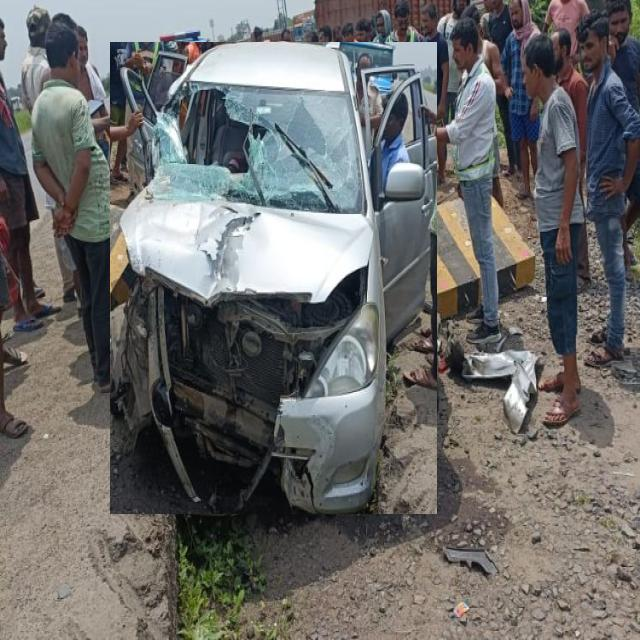accident: (111, 43, 437, 514)
